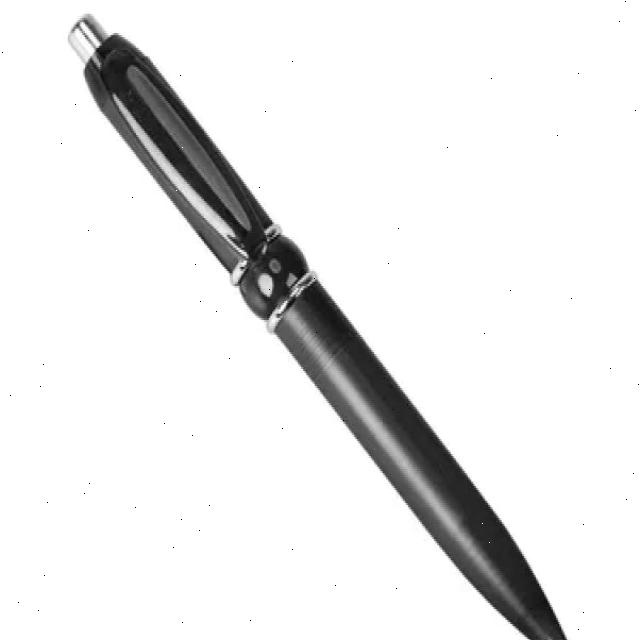pencil: (67, 4, 595, 640)
